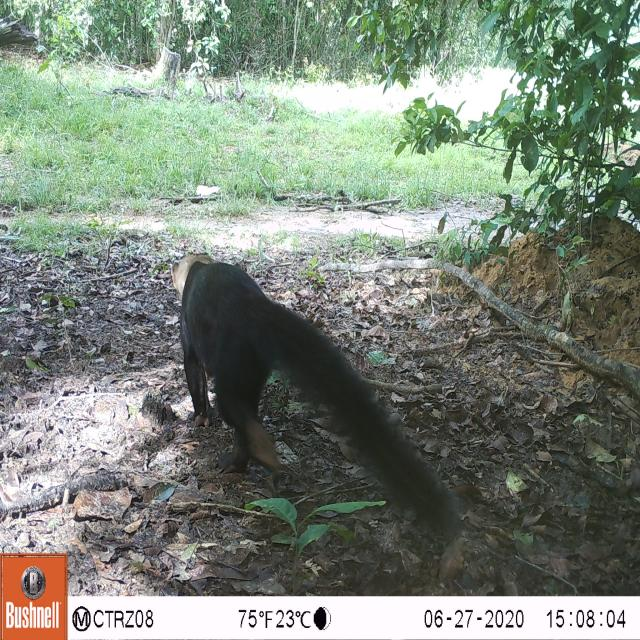Tayra: (160, 240, 472, 556)
